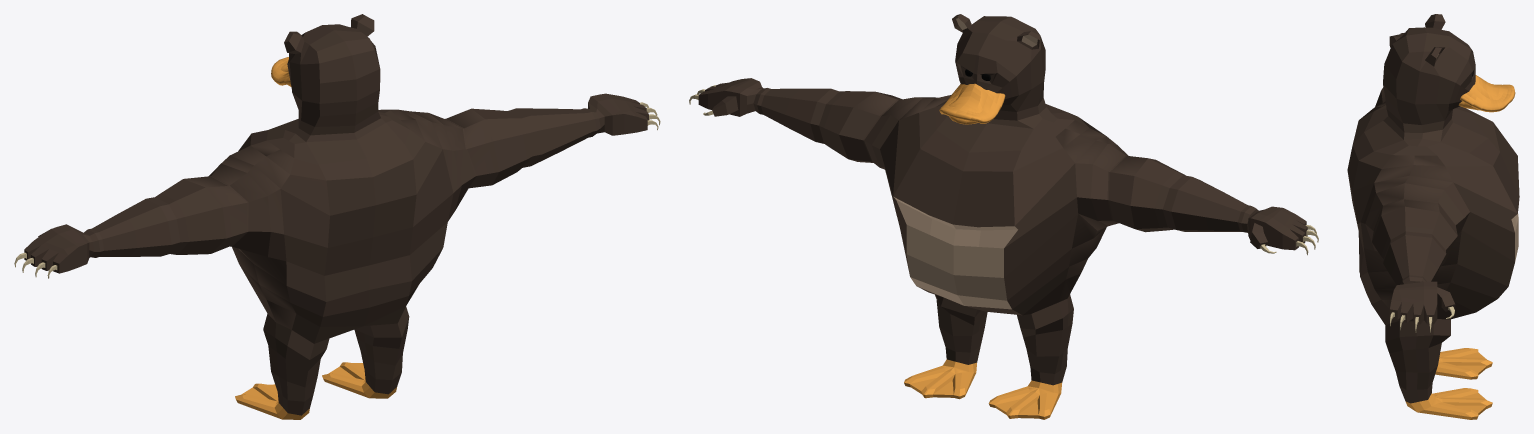
File: Paturso.fbx
The picture shows the model from 3 angles, left to right: view 1: azimuth 30°, elevation 25°; view 2: azimuth 150°, elevation 25°; view 3: azimuth 270°, elevation 25°; orthographic projection. The views are drawn at different scales.
Parts seen in each view (by area): view 1: BlackBear; view 2: BlackBear; view 3: BlackBear.
Part boxes in pixels (x1=…): BlackBear: x1=14, y1=14, x2=660, y2=419; BlackBear: x1=689, y1=14, x2=1318, y2=419; BlackBear: x1=1347, y1=14, x2=1519, y2=419.
Bounding box in the file's own units: 5501 × 3099 × 1359.
